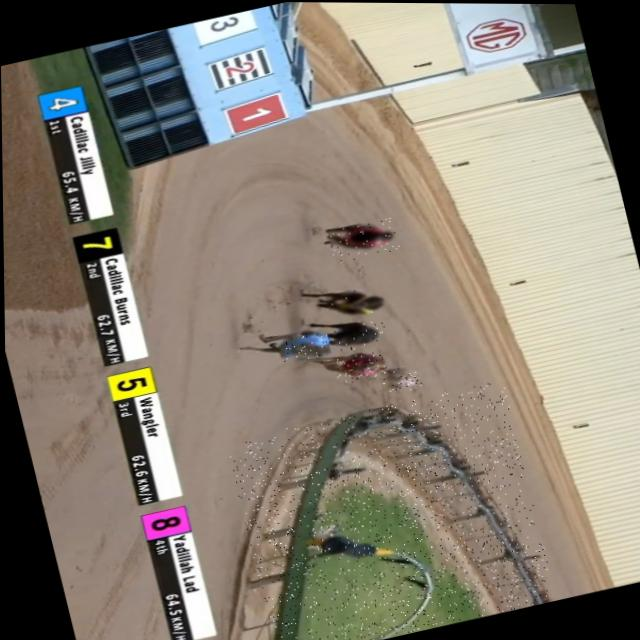dog_eight: (331, 348, 387, 386)
dog_five: (323, 282, 385, 323)
dog_four: (275, 329, 329, 364)
dog_one: (325, 215, 399, 263)
dog_seven: (330, 317, 386, 353)
dog_two: (378, 363, 420, 395)
rail: (277, 406, 553, 640)
